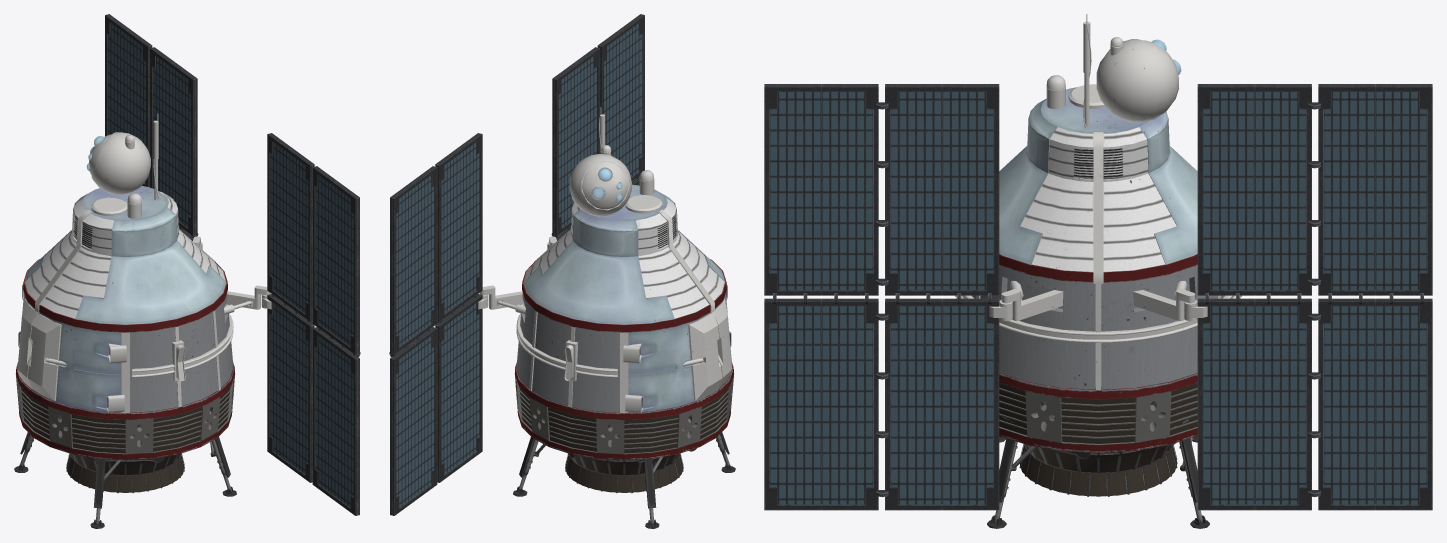
3 renders of one model, left to right at view 1: azimuth 30°, elevation 25°; view 2: azimuth 150°, elevation 25°; view 3: azimuth 270°, elevation 25°, orthographic. The views are drawn at different scales.
Parts seen in each view (by area): view 1: Cylinder.021, Plane.005, Cube.018, Roundcube.003, Cube.017, Cylinder.034, Cube.023, Cube.024, Cube.020, Cylinder.023, Cube.022, Cylinder.031 (+1 smaller); view 2: Cylinder.021, Plane.005, Cube.018, Roundcube.004, Cube.017, Roundcube.003, Cylinder.034, Cube.023, Cube.024, Cube.020, Cylinder.023, Cube.022 (+2 smaller); view 3: Plane.005, Cylinder.021, Roundcube.003, Cube.023, Cube.020, Cube.017, Cube.024, Plane.007, Cylinder.035, Cylinder.031, Plane.006, Cylinder.032.
Boxes of the visible parts, x1,y1,x2,y2 form: Cylinder.021: (16, 186, 235, 492); Plane.005: (105, 14, 359, 515); Cube.018: (18, 299, 61, 400); Roundcube.003: (91, 132, 150, 194); Cube.017: (14, 432, 236, 528); Cylinder.034: (121, 310, 220, 412); Cube.023: (132, 313, 233, 377); Cube.024: (34, 192, 215, 312); Cube.020: (193, 236, 269, 309); Cylinder.023: (91, 197, 127, 216); Cube.022: (172, 340, 185, 381); Cylinder.031: (69, 453, 181, 475); Cylinder.021: (514, 184, 733, 492); Plane.005: (390, 14, 644, 515); Cube.018: (688, 299, 731, 400); Roundcube.004: (582, 162, 628, 209); Cube.017: (513, 432, 735, 528); Roundcube.003: (569, 154, 631, 216); Cylinder.034: (529, 310, 628, 412); Cube.023: (516, 313, 617, 377); Cube.024: (534, 209, 715, 312); Cube.020: (480, 236, 556, 309); Cylinder.023: (625, 195, 662, 213); Cube.022: (564, 340, 577, 381); Plane.005: (764, 84, 1432, 510); Cylinder.021: (972, 87, 1224, 496); Roundcube.003: (1096, 39, 1178, 122); Cube.023: (961, 295, 1235, 342); Cube.020: (1001, 289, 1195, 321); Cube.017: (987, 436, 1209, 528); Cube.024: (1093, 132, 1103, 283); Plane.007: (876, 102, 1320, 497); Cylinder.035: (1073, 148, 1123, 179); Cylinder.031: (1024, 444, 1171, 473); Plane.006: (773, 293, 1423, 304); Cylinder.032: (989, 299, 1207, 321).
Size of the model in its own units: 5.28 by 8.71 by 10.86.
Materials: 2 (2 with a texture image).
